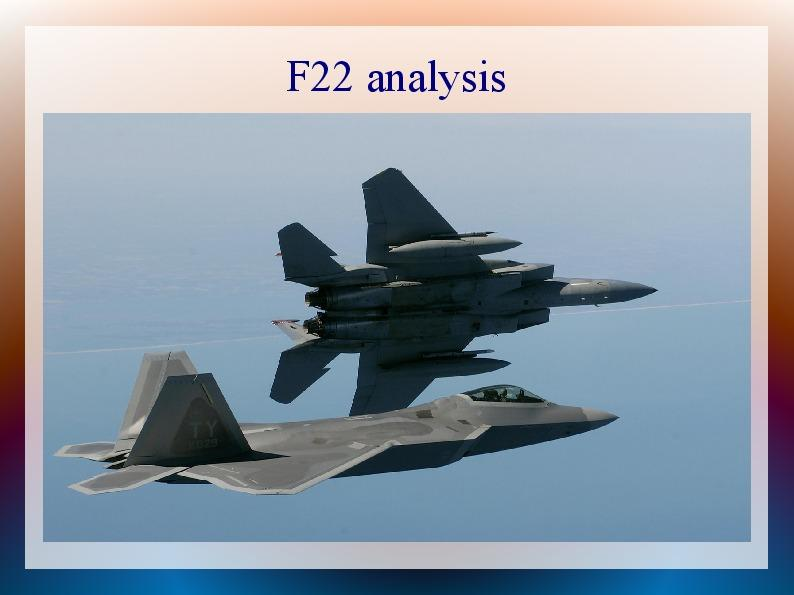title: (276, 48, 529, 111)
